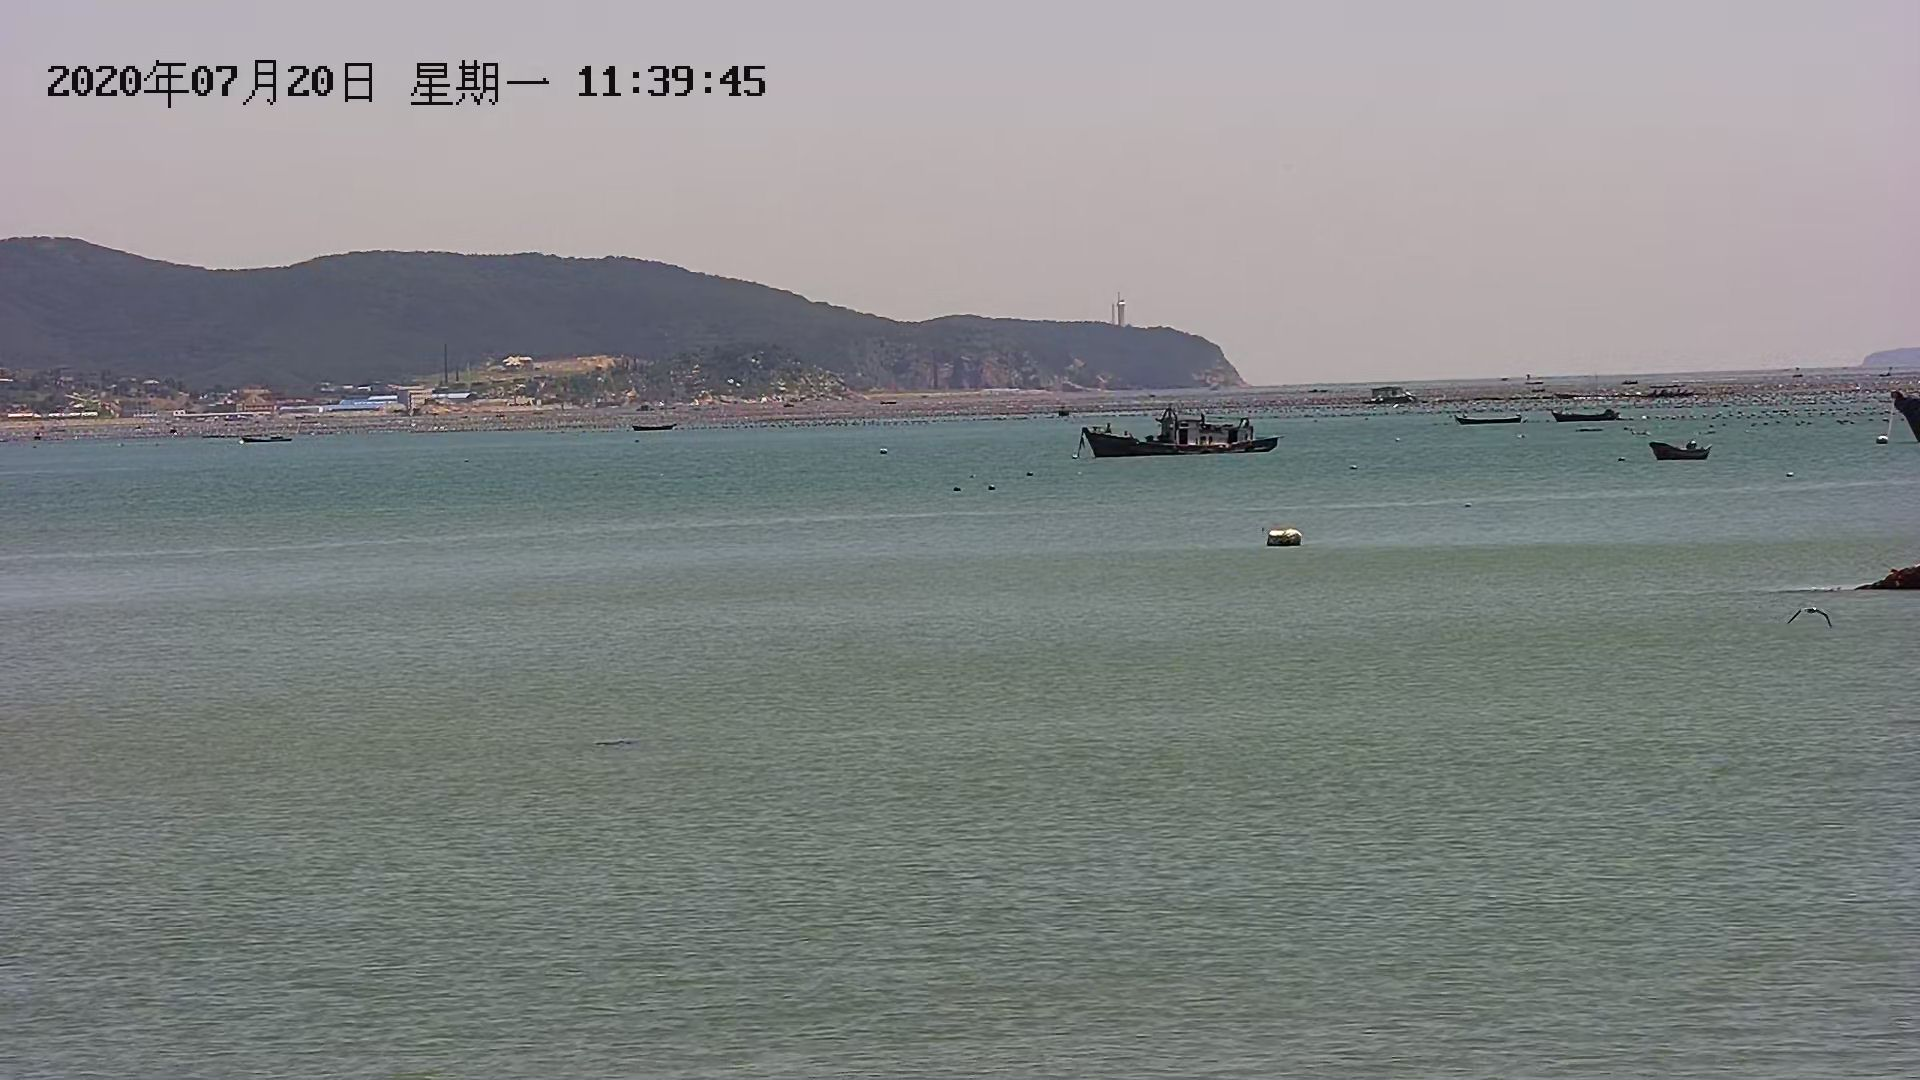ball: (1262, 525, 1311, 554)
boat: (1080, 410, 1284, 465), (1444, 407, 1532, 429), (1655, 435, 1714, 462), (1548, 402, 1621, 419)
platform: (1366, 380, 1433, 406)
